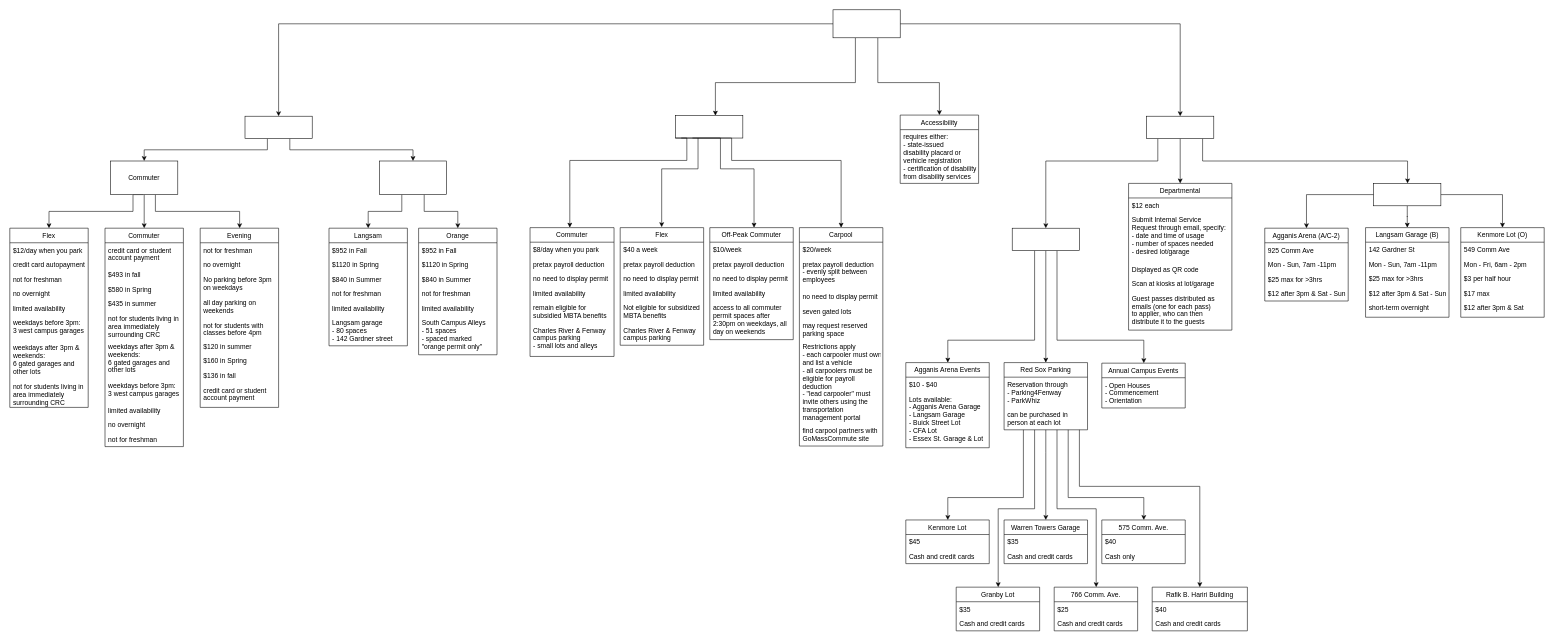
This 1554x642 diagram has some shape labels left out. Here are the shapes that lost their labels. From the top down, the centre of each, then its label:
At [866,23]: "Boston University Parking".
At [278,127]: "Students".
At [709,126]: "Faculty and Staff".
At [1180,127]: "Guest".
At [413,177]: "Campus Resident".
At [1407,194]: "Family, Guest and Visitor".
At [1045,239]: "Event".
